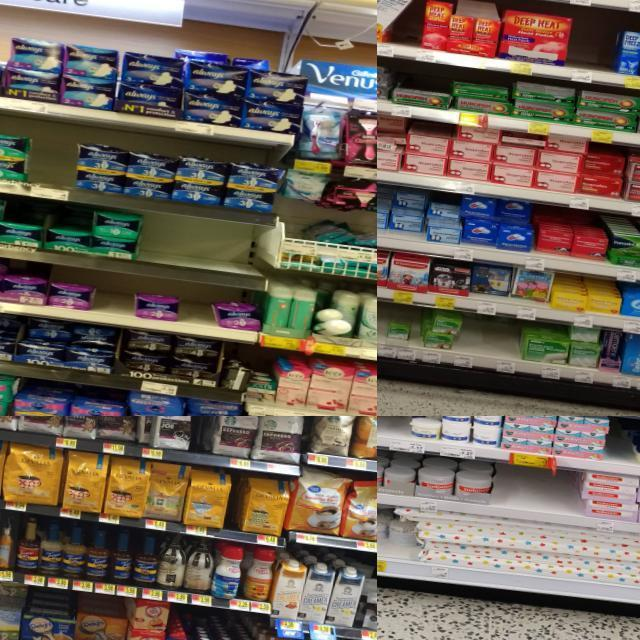Imprecise: (388, 187, 428, 240), (499, 199, 536, 251), (376, 114, 404, 171), (312, 303, 355, 339), (388, 320, 412, 348)
